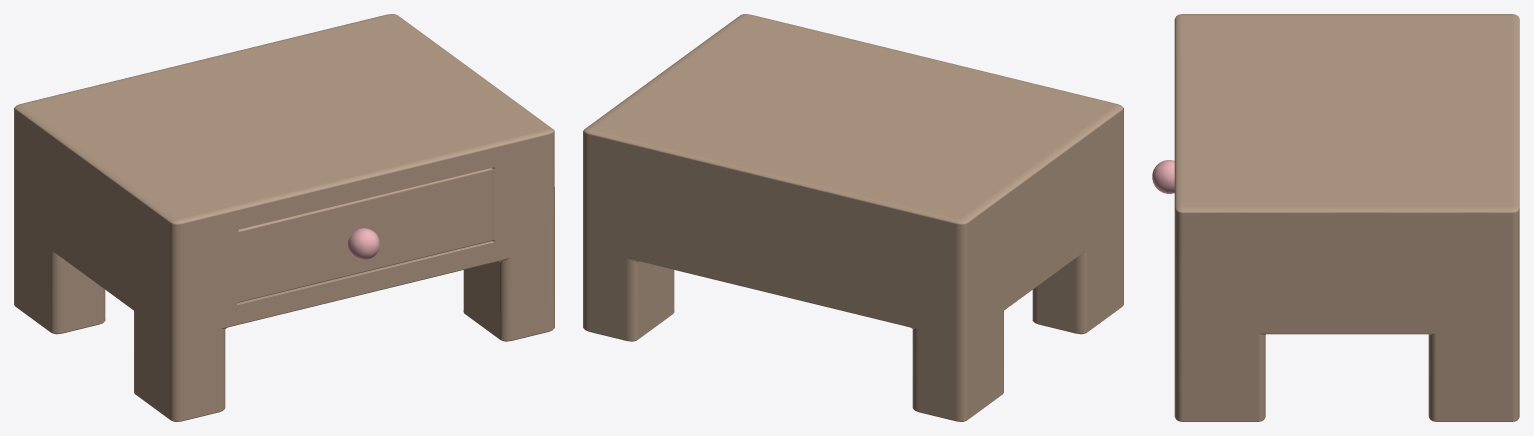
3 renders of one model, left to right at view 1: azimuth 30°, elevation 25°; view 2: azimuth 150°, elevation 25°; view 3: azimuth 270°, elevation 25°, orthographic. The views are drawn at different scales.
Visible parts, largest first — view 1: Cube.007, Icosphere; view 2: Cube.007; view 3: Cube.007, Icosphere.
Boxes of the visible parts, x1,y1,x2,y2 form: Cube.007: [14, 14, 554, 421]; Icosphere: [348, 228, 379, 260]; Cube.007: [583, 14, 1123, 421]; Cube.007: [1174, 14, 1519, 421]; Icosphere: [1152, 160, 1174, 193].
Size of the model in its own units: 90.21 by 45.23 by 70.6.
